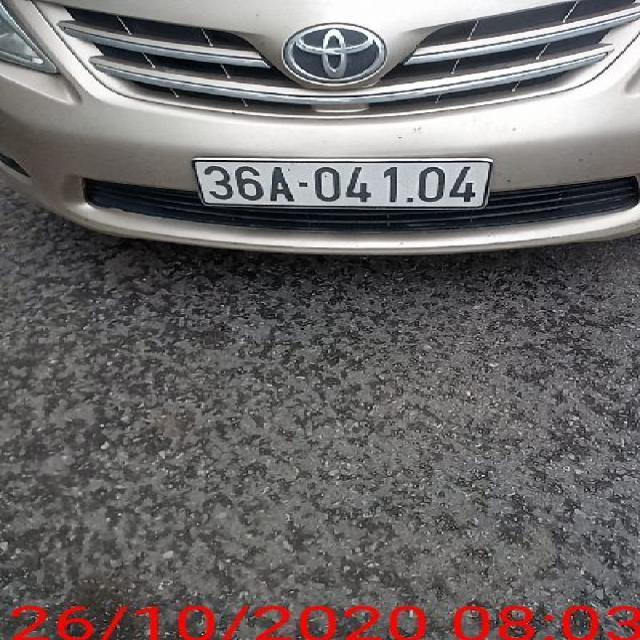bien_so_oto: (190, 154, 494, 212)
